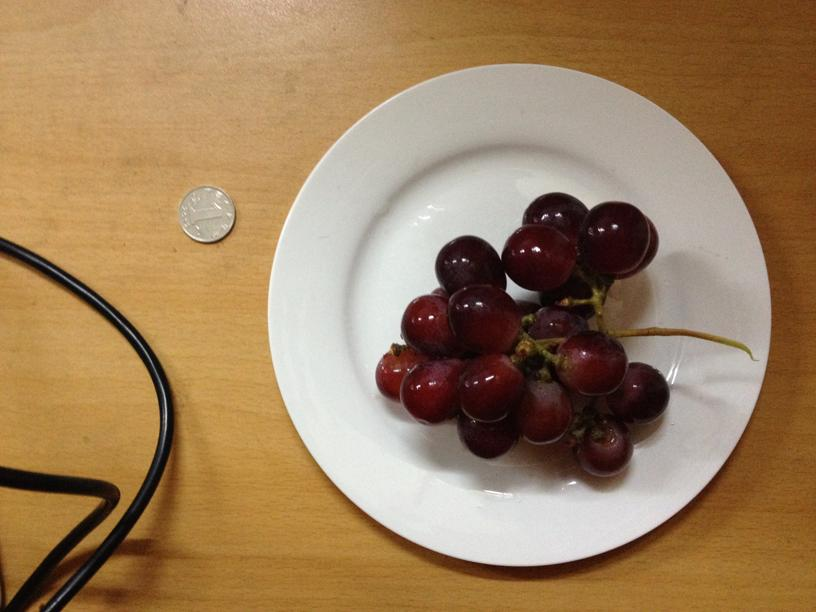coin: (177, 186, 235, 243)
grape: (371, 189, 671, 478)
